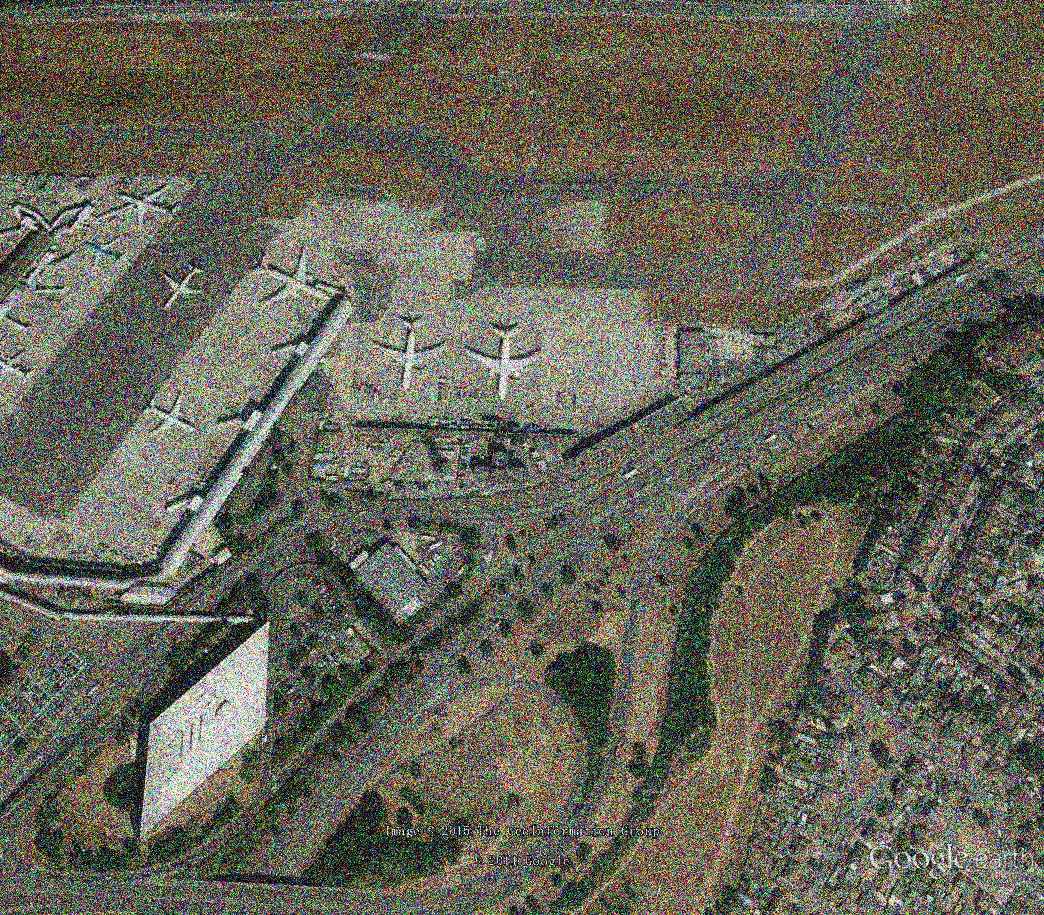aircraft: (461, 319, 548, 404), (369, 313, 451, 397), (245, 241, 334, 310), (115, 180, 187, 236), (142, 388, 198, 439), (158, 258, 208, 313), (73, 234, 130, 273), (2, 348, 37, 389)
